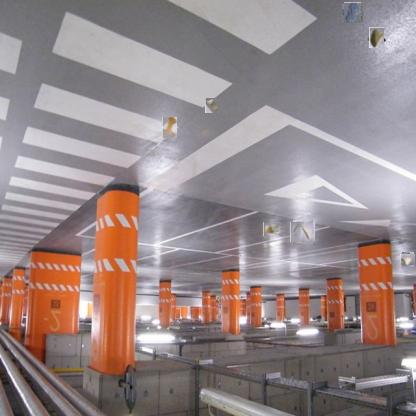dirty: (292, 221, 314, 244), (367, 28, 386, 47), (263, 222, 286, 236), (205, 98, 221, 113), (401, 253, 415, 266)
liquid: (343, 3, 362, 23), (162, 116, 177, 139)
